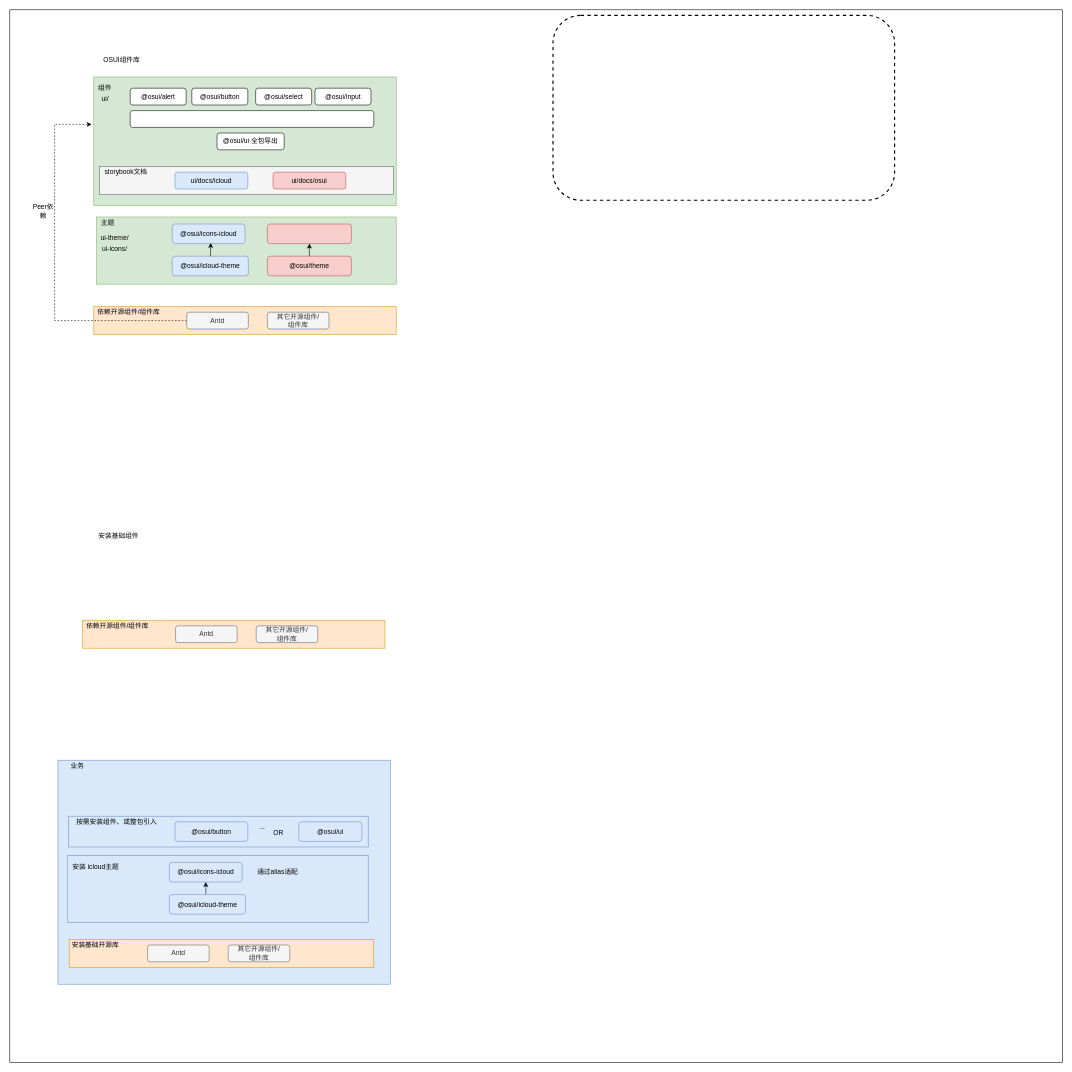
Image size: 1072x1072. Some labels were removed from this diagram. Each missing label, with the centre of its shape:
@osui/... 等等 70+ 组件，: point (252, 118)
@osui/icons: point (309, 233)
